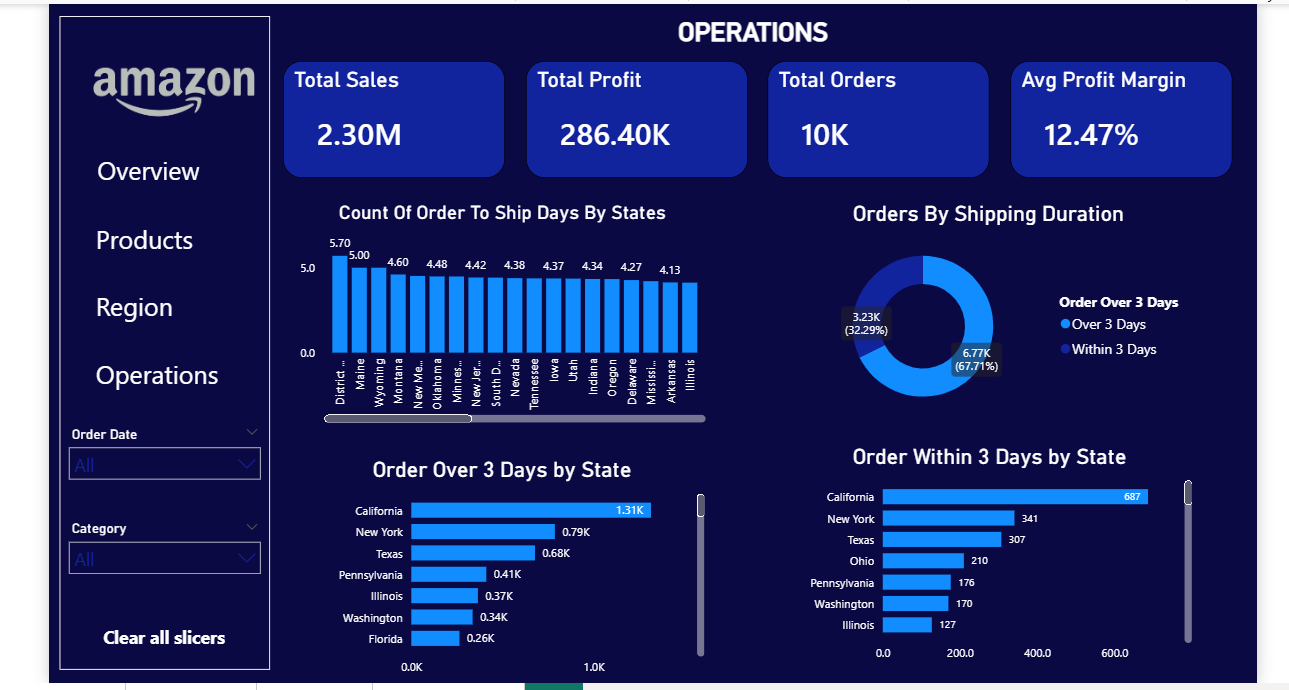

This screenshot's page, from the dashboard's own definition file:
{"tool":"powerbi","page":{"name":"Operations","canvas":[1280,720],"ordinal":3},"visuals":[{"type":"cardVisual","title":"Avg Profit Margin","fields":{"Data":["Orders.Avg Profit Margin"]},"box":[1019.6,60.4,235.4,124.1],"z":0},{"type":"cardVisual","title":"Total Orders","fields":{"Data":["Orders.Total Orders"]},"box":[762.4,60.4,235,124],"z":1000},{"type":"cardVisual","title":"Total Profit","fields":{"Data":["Orders.Total Profit"]},"box":[505.3,60.4,235,124.1],"z":2000},{"type":"cardVisual","title":"Total Sales","fields":{"Data":["Orders.Total Sales"]},"box":[248.1,60.4,235,124],"z":3000},{"type":"clusteredColumnChart","title":"Count Of Order To Ship Days By States","fields":{"Category":["Orders.State"],"Y":["Avg(Orders.Time To Ship)"]},"box":[260.9,208.4,440,240],"z":4000},{"type":"donutChart","title":"Orders By Shipping Duration","fields":{"Y":["CountNonNull(Orders.Order Over 3 Days)"],"Category":["Orders.Order Over 3 Days"]},"box":[776.2,208.4,440,240],"z":5000},{"type":"textbox","title":"OPERATIONS","box":[261.7,13.3,968.3,60],"z":6000},{"type":"barChart","title":"Order Over 3 Days by State","fields":{"Category":["Orders.State"],"Y":["CountNonNull(Orders.Order ID)"]},"box":[260.9,480.4,439,240.2],"z":7000},{"type":"barChart","title":"Order Within 3 Days by State","fields":{"Category":["Orders.State"],"Y":["CountNonNull(Orders.Order ID)"]},"box":[777.8,466,439,240.2],"z":8000},{"type":"shape","box":[11.7,13.3,223.3,693.3],"z":9000},{"type":"image","box":[36.7,13.3,196.7,170],"z":10000},{"type":"actionButton","box":[38.3,143.3,196.7,65],"z":11000},{"type":"actionButton","box":[36.7,360,196.7,65],"z":12000},{"type":"actionButton","box":[36.7,287.8,196.7,65],"z":13000},{"type":"actionButton","box":[36.7,215.6,196.7,65],"z":14000},{"type":"slicer","fields":{"Values":["Orders.Order Date"]},"box":[11.7,441.7,223.3,100],"z":15000},{"type":"slicer","fields":{"Values":["Orders.Category"]},"box":[11.7,541.7,223.3,103.3],"z":16000},{"type":"actionButton","box":[11.7,645,221.7,50],"z":17000}]}

Visuals, with their boxes on the page's 1280x720 design canvas (x1, y1, x2, y2). These are canvas units, not pixel positions in the 1289x690 screenshot, which may show the page scaled, cropped or inside an application window:
"Avg Profit Margin" cardVisual: <region>1020, 60, 1255, 184</region>
"Total Orders" cardVisual: <region>762, 60, 997, 184</region>
"Total Profit" cardVisual: <region>505, 60, 740, 184</region>
"Total Sales" cardVisual: <region>248, 60, 483, 184</region>
"Count Of Order To Ship Days By States" clusteredColumnChart: <region>261, 208, 701, 448</region>
"Orders By Shipping Duration" donutChart: <region>776, 208, 1216, 448</region>
"OPERATIONS" textbox: <region>262, 13, 1230, 73</region>
"Order Over 3 Days by State" barChart: <region>261, 480, 700, 721</region>
"Order Within 3 Days by State" barChart: <region>778, 466, 1217, 706</region>
shape: <region>12, 13, 235, 707</region>
image: <region>37, 13, 233, 183</region>
actionButton: <region>38, 143, 235, 208</region>
actionButton: <region>37, 360, 233, 425</region>
actionButton: <region>37, 288, 233, 353</region>
actionButton: <region>37, 216, 233, 281</region>
slicer - Orders.Order Date: <region>12, 442, 235, 542</region>
slicer - Orders.Category: <region>12, 542, 235, 645</region>
actionButton: <region>12, 645, 233, 695</region>
